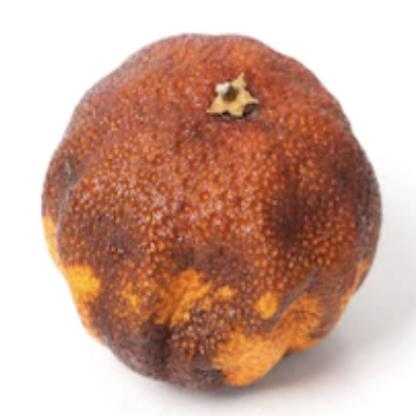rotten: (43, 32, 378, 395)
